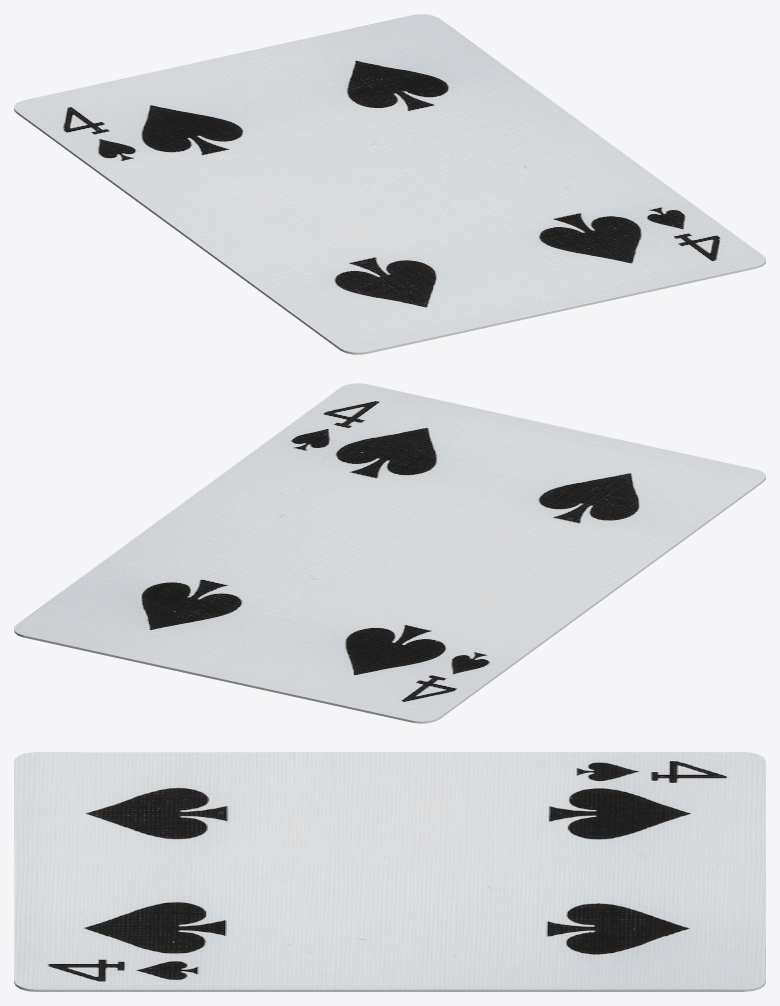
Rendered from spades4.fbx.
3 renders of one model, top to bottom at view 1: azimuth 30°, elevation 25°; view 2: azimuth 150°, elevation 25°; view 3: azimuth 270°, elevation 25°, orthographic. The views are drawn at different scales.
Parts seen in each view (by area): view 1: Spades_4_6; view 2: Spades_4_6; view 3: Spades_4_6.
Part boxes in pixels (bbox=[...]): Spades_4_6: bbox=[14, 14, 765, 354]; Spades_4_6: bbox=[14, 383, 765, 723]; Spades_4_6: bbox=[14, 752, 765, 991].
Bounding box in the file's own units: 6.26 × 0.1776 × 8.8.
